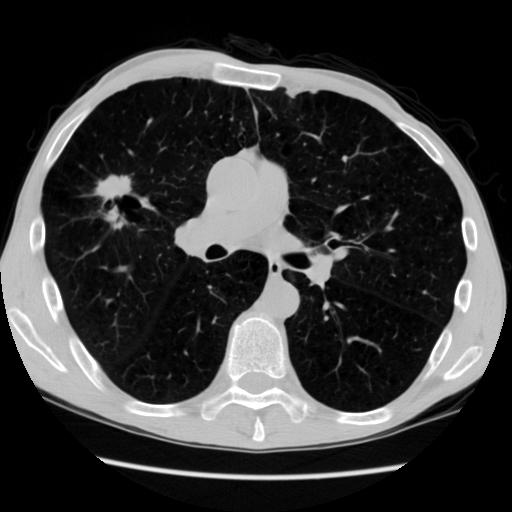nodule: (93, 178, 136, 221)
